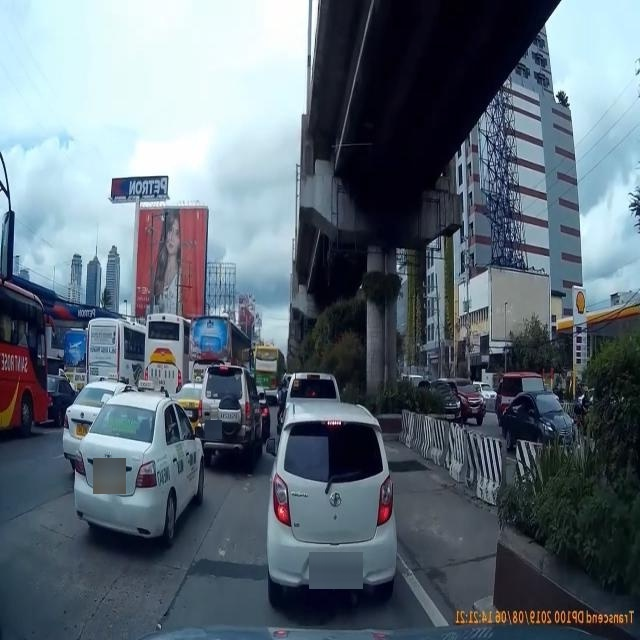bus: (0, 286, 45, 437), (130, 304, 198, 399), (254, 344, 282, 398)
car: (264, 391, 396, 613), (78, 381, 202, 552), (194, 358, 272, 464), (487, 388, 577, 456), (409, 374, 459, 430), (456, 372, 484, 425)
